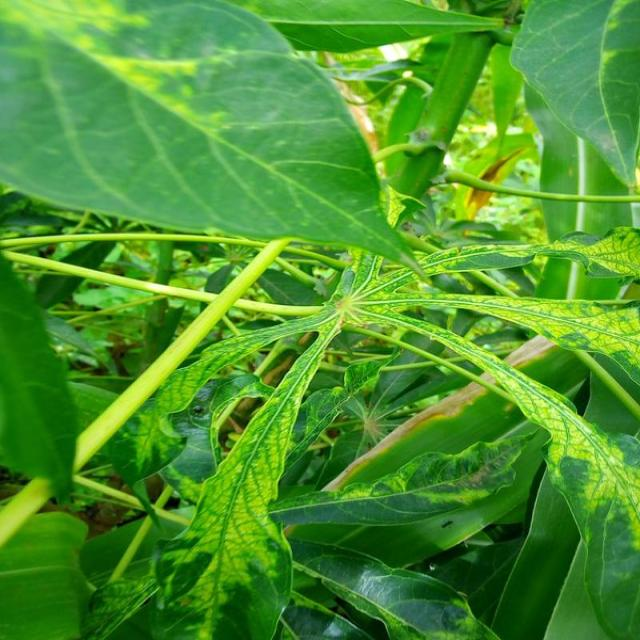cassava leaf: (0, 1, 638, 638), (0, 0, 429, 277), (508, 0, 638, 189)
